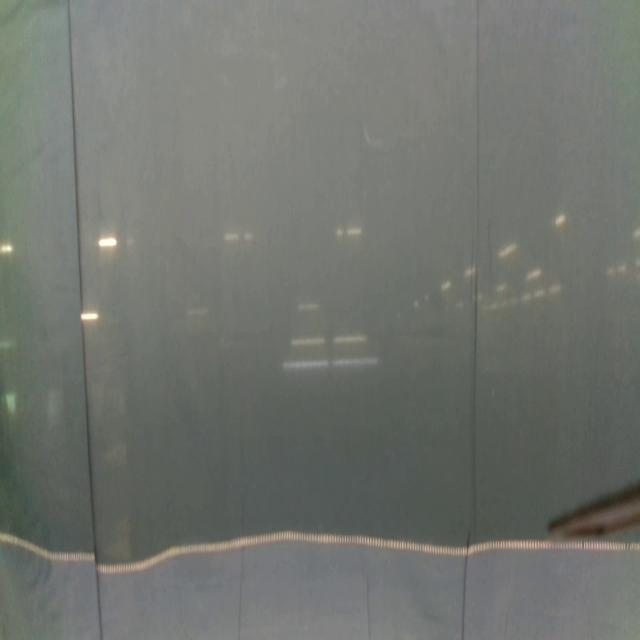crease: (68, 0, 103, 640), (462, 0, 483, 636), (236, 546, 247, 640), (364, 578, 372, 640)
